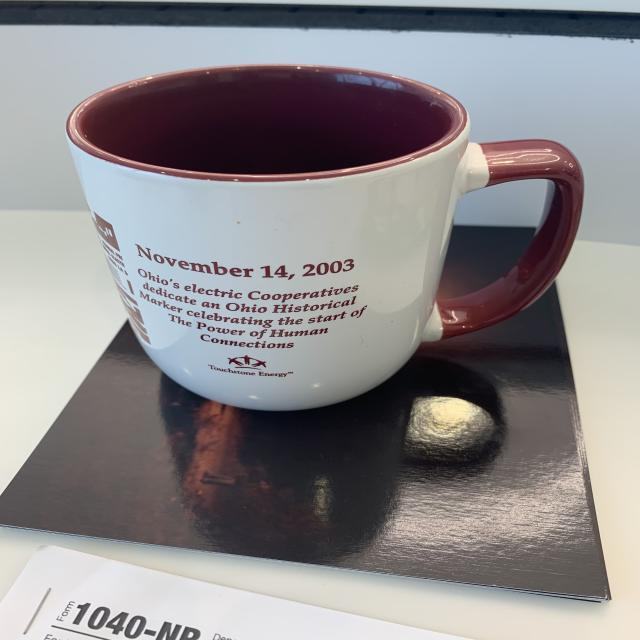Cup: (65, 58, 592, 419)
